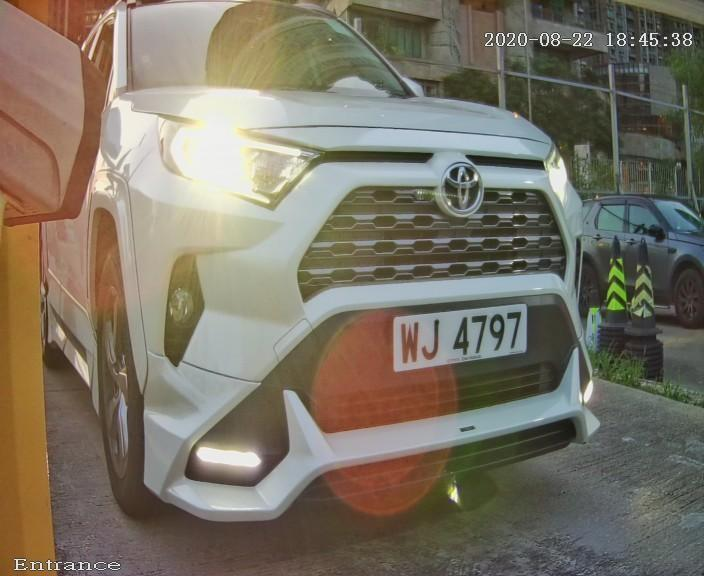Car: (38, 1, 664, 574)
License Plate: (357, 281, 564, 391)
